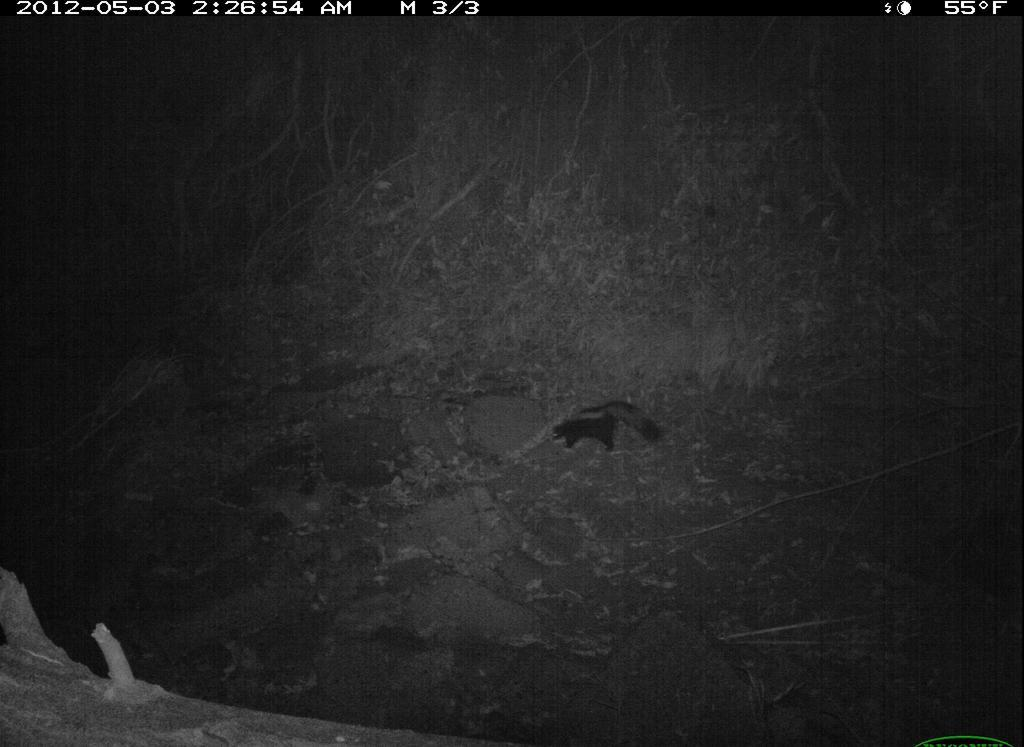skunk: (543, 395, 671, 461)
